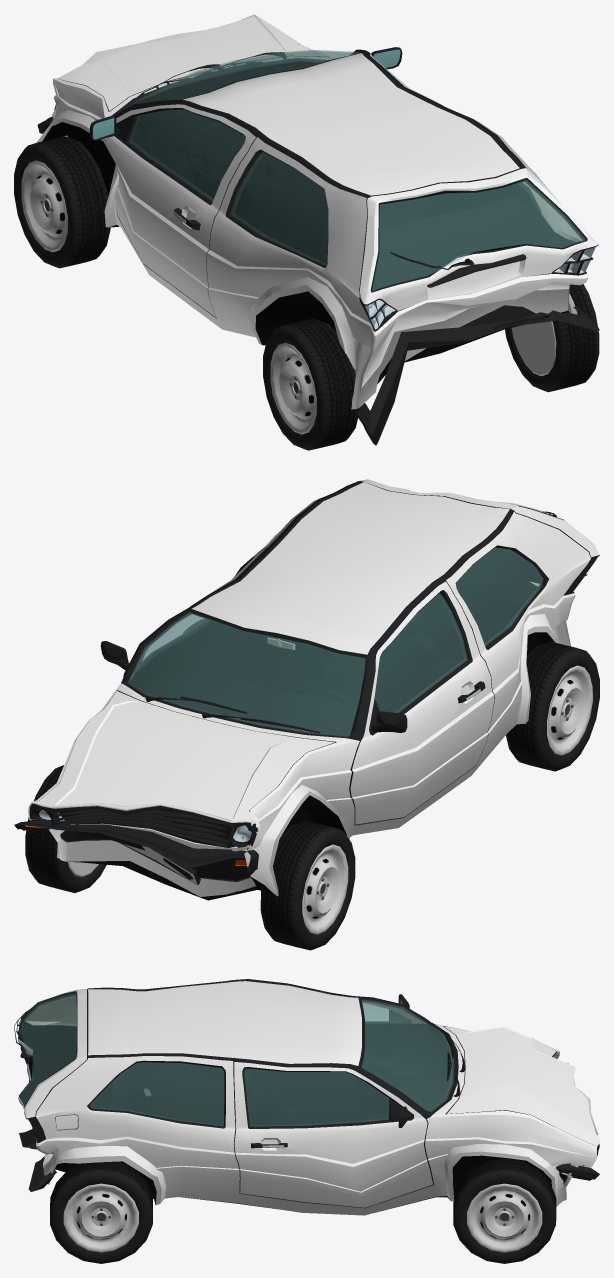
Rendered from WV_GOLF_2.fbx.
3 renders of one model, top to bottom at view 1: azimuth 30°, elevation 25°; view 2: azimuth 150°, elevation 25°; view 3: azimuth 270°, elevation 25°, orthographic. The views are drawn at different scales.
Parts seen in each view (by area): view 1: WV_Golf_2, front_left, rear_left, rear_right; view 2: WV_Golf_2, front_left, rear_left, front_right; view 3: WV_Golf_2, front_right, rear_right.
Boxes of the visible parts, box(x1,y1,x2,y2) form: WV_Golf_2: box(36, 14, 599, 445); front_left: box(14, 136, 110, 268); rear_left: box(263, 318, 359, 450); rear_right: box(505, 284, 599, 392); WV_Golf_2: box(14, 479, 599, 900); front_left: box(260, 820, 355, 950); rear_left: box(506, 641, 599, 771); front_right: box(25, 765, 106, 892); WV_Golf_2: box(14, 979, 599, 1215); front_right: box(453, 1158, 556, 1263); rear_right: box(50, 1161, 152, 1263).
Bounding box in the file's own units: 179 × 133 × 360.
